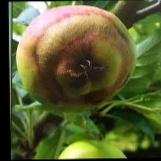rotten apple: (12, 3, 138, 113)
